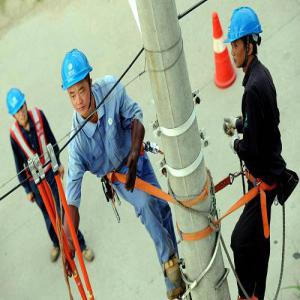blue: (61, 50, 95, 117), (228, 8, 263, 70), (7, 86, 28, 127)
